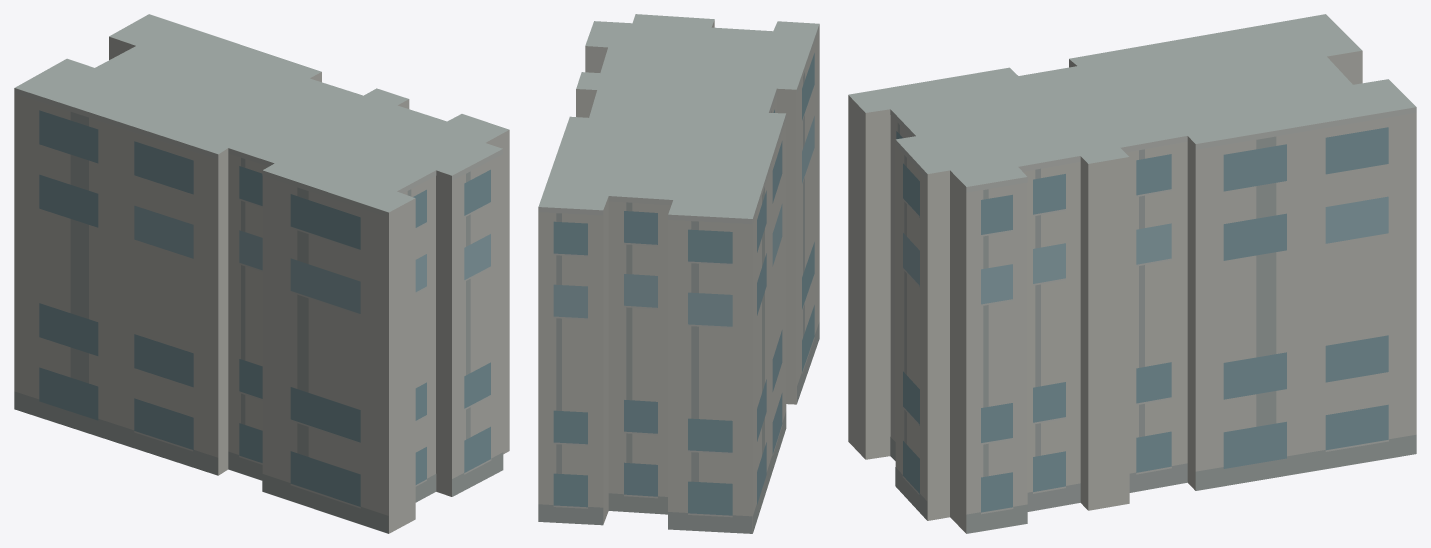
File: survey-upis-32942948.glb
3 renders of one model, left to right at view 1: azimuth 30°, elevation 25°; view 2: azimuth 150°, elevation 25°; view 3: azimuth 270°, elevation 25°, orthographic. The views are drawn at different scales.
Visible parts, largest first — view 1: survey-upis-32942948.tmp; view 2: survey-upis-32942948.tmp; view 3: survey-upis-32942948.tmp.
Part boxes in pixels (<box>): survey-upis-32942948.tmp: <box>14,14,509,533</box>; survey-upis-32942948.tmp: <box>538,14,819,533</box>; survey-upis-32942948.tmp: <box>848,14,1416,533</box>.
Bounding box in the file's own units: 15.52 × 14.5 × 21.55.
